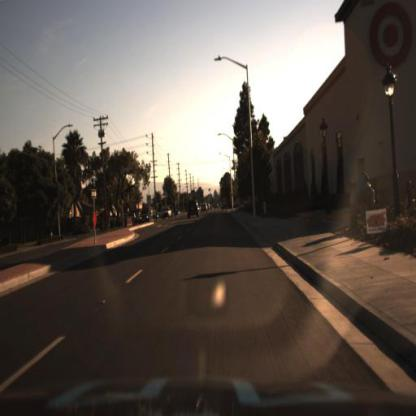car: (137, 206, 155, 226), (185, 198, 200, 219), (140, 206, 154, 226), (160, 205, 176, 222)
